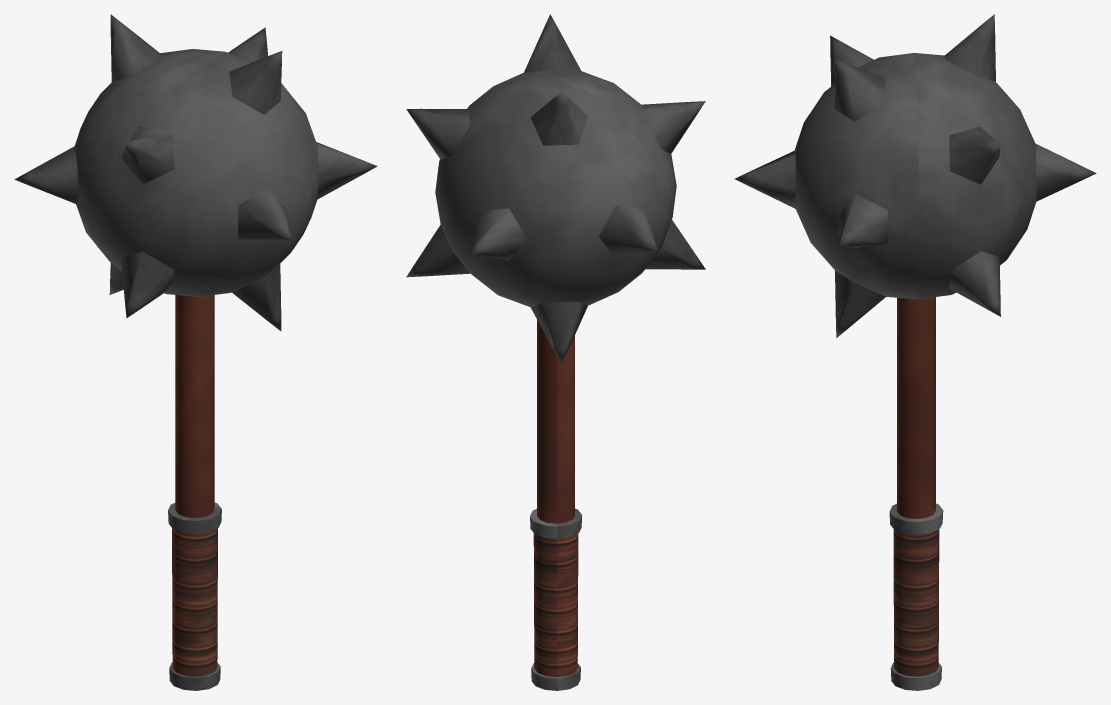
The model's file is Medieval Mace.fbx.
The picture shows the model from 3 angles, left to right: view 1: azimuth 30°, elevation 25°; view 2: azimuth 150°, elevation 25°; view 3: azimuth 270°, elevation 25°; orthographic projection. The views are drawn at different scales.
Parts seen in each view (by area): view 1: Medieval_Mace; view 2: Medieval_Mace; view 3: Medieval_Mace.
Part boxes in pixels (x1,y1,x2,y2): Medieval_Mace: [14, 14, 377, 690]; Medieval_Mace: [406, 14, 705, 690]; Medieval_Mace: [734, 14, 1096, 690].
Size of the model in its own units: 2.08 by 4.48 by 2.28.
